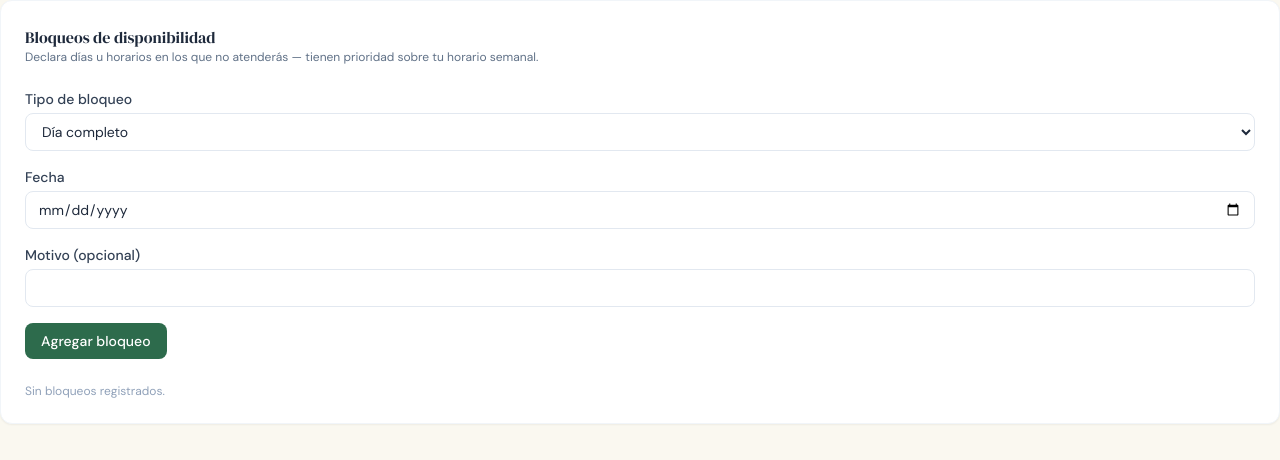
Test case: BlockoutEditor — therapist-availability Req: Availability Blockouts › agrega un bloqueo de día completo y lo muestra en la lista
The image size is (1280, 460).
Expected: the text "Sin bloqueos registrados." is shown, [25, 383, 165, 399]
Step 1. Type "2026-06-01" into the date field labelled "Fecha" → [640, 210], box [25, 191, 1255, 229]
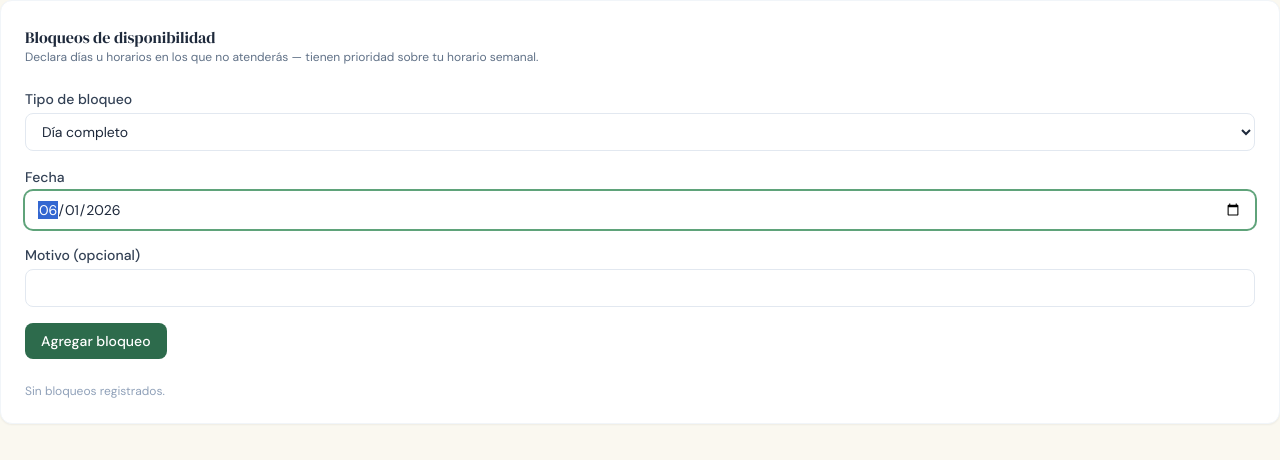
Step 2. Click the button "Agregar bloqueo" → [96, 341], box [25, 323, 166, 359]
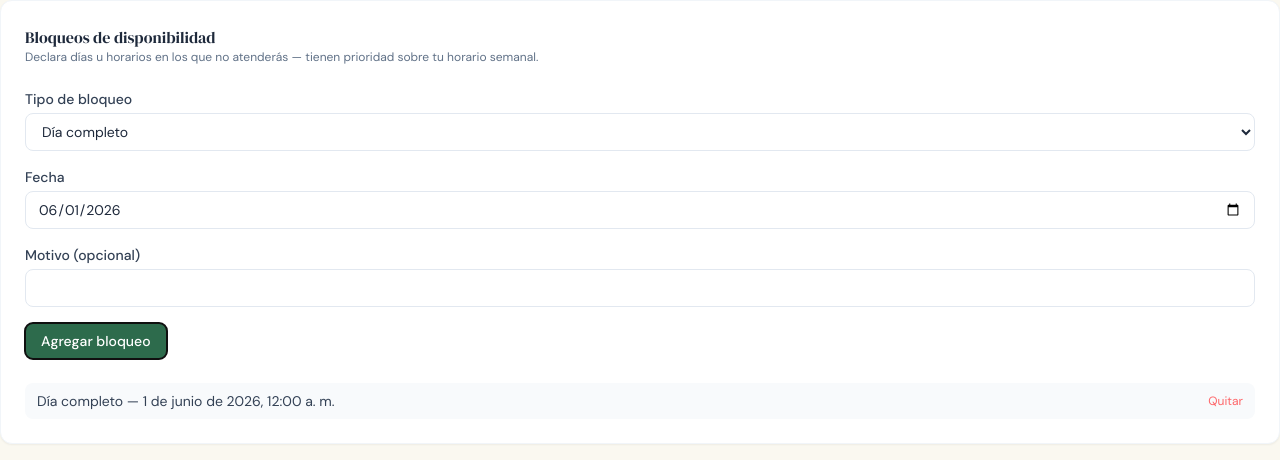
Now the text "Día completo — 1 de junio de 2026, 12:00 a. m." is shown, box [37, 391, 335, 411]
